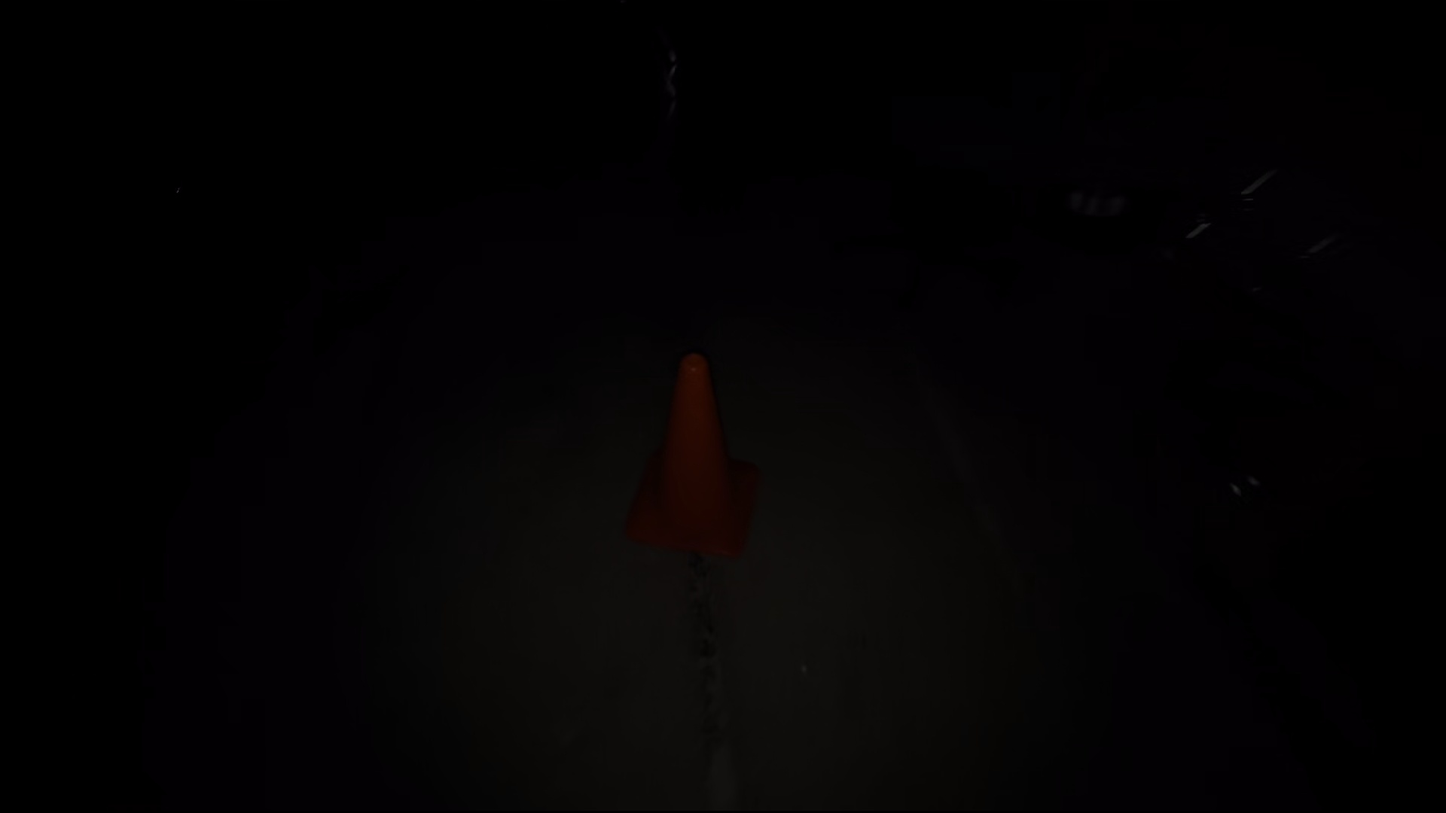traffic_cone: (624, 350, 757, 559)
